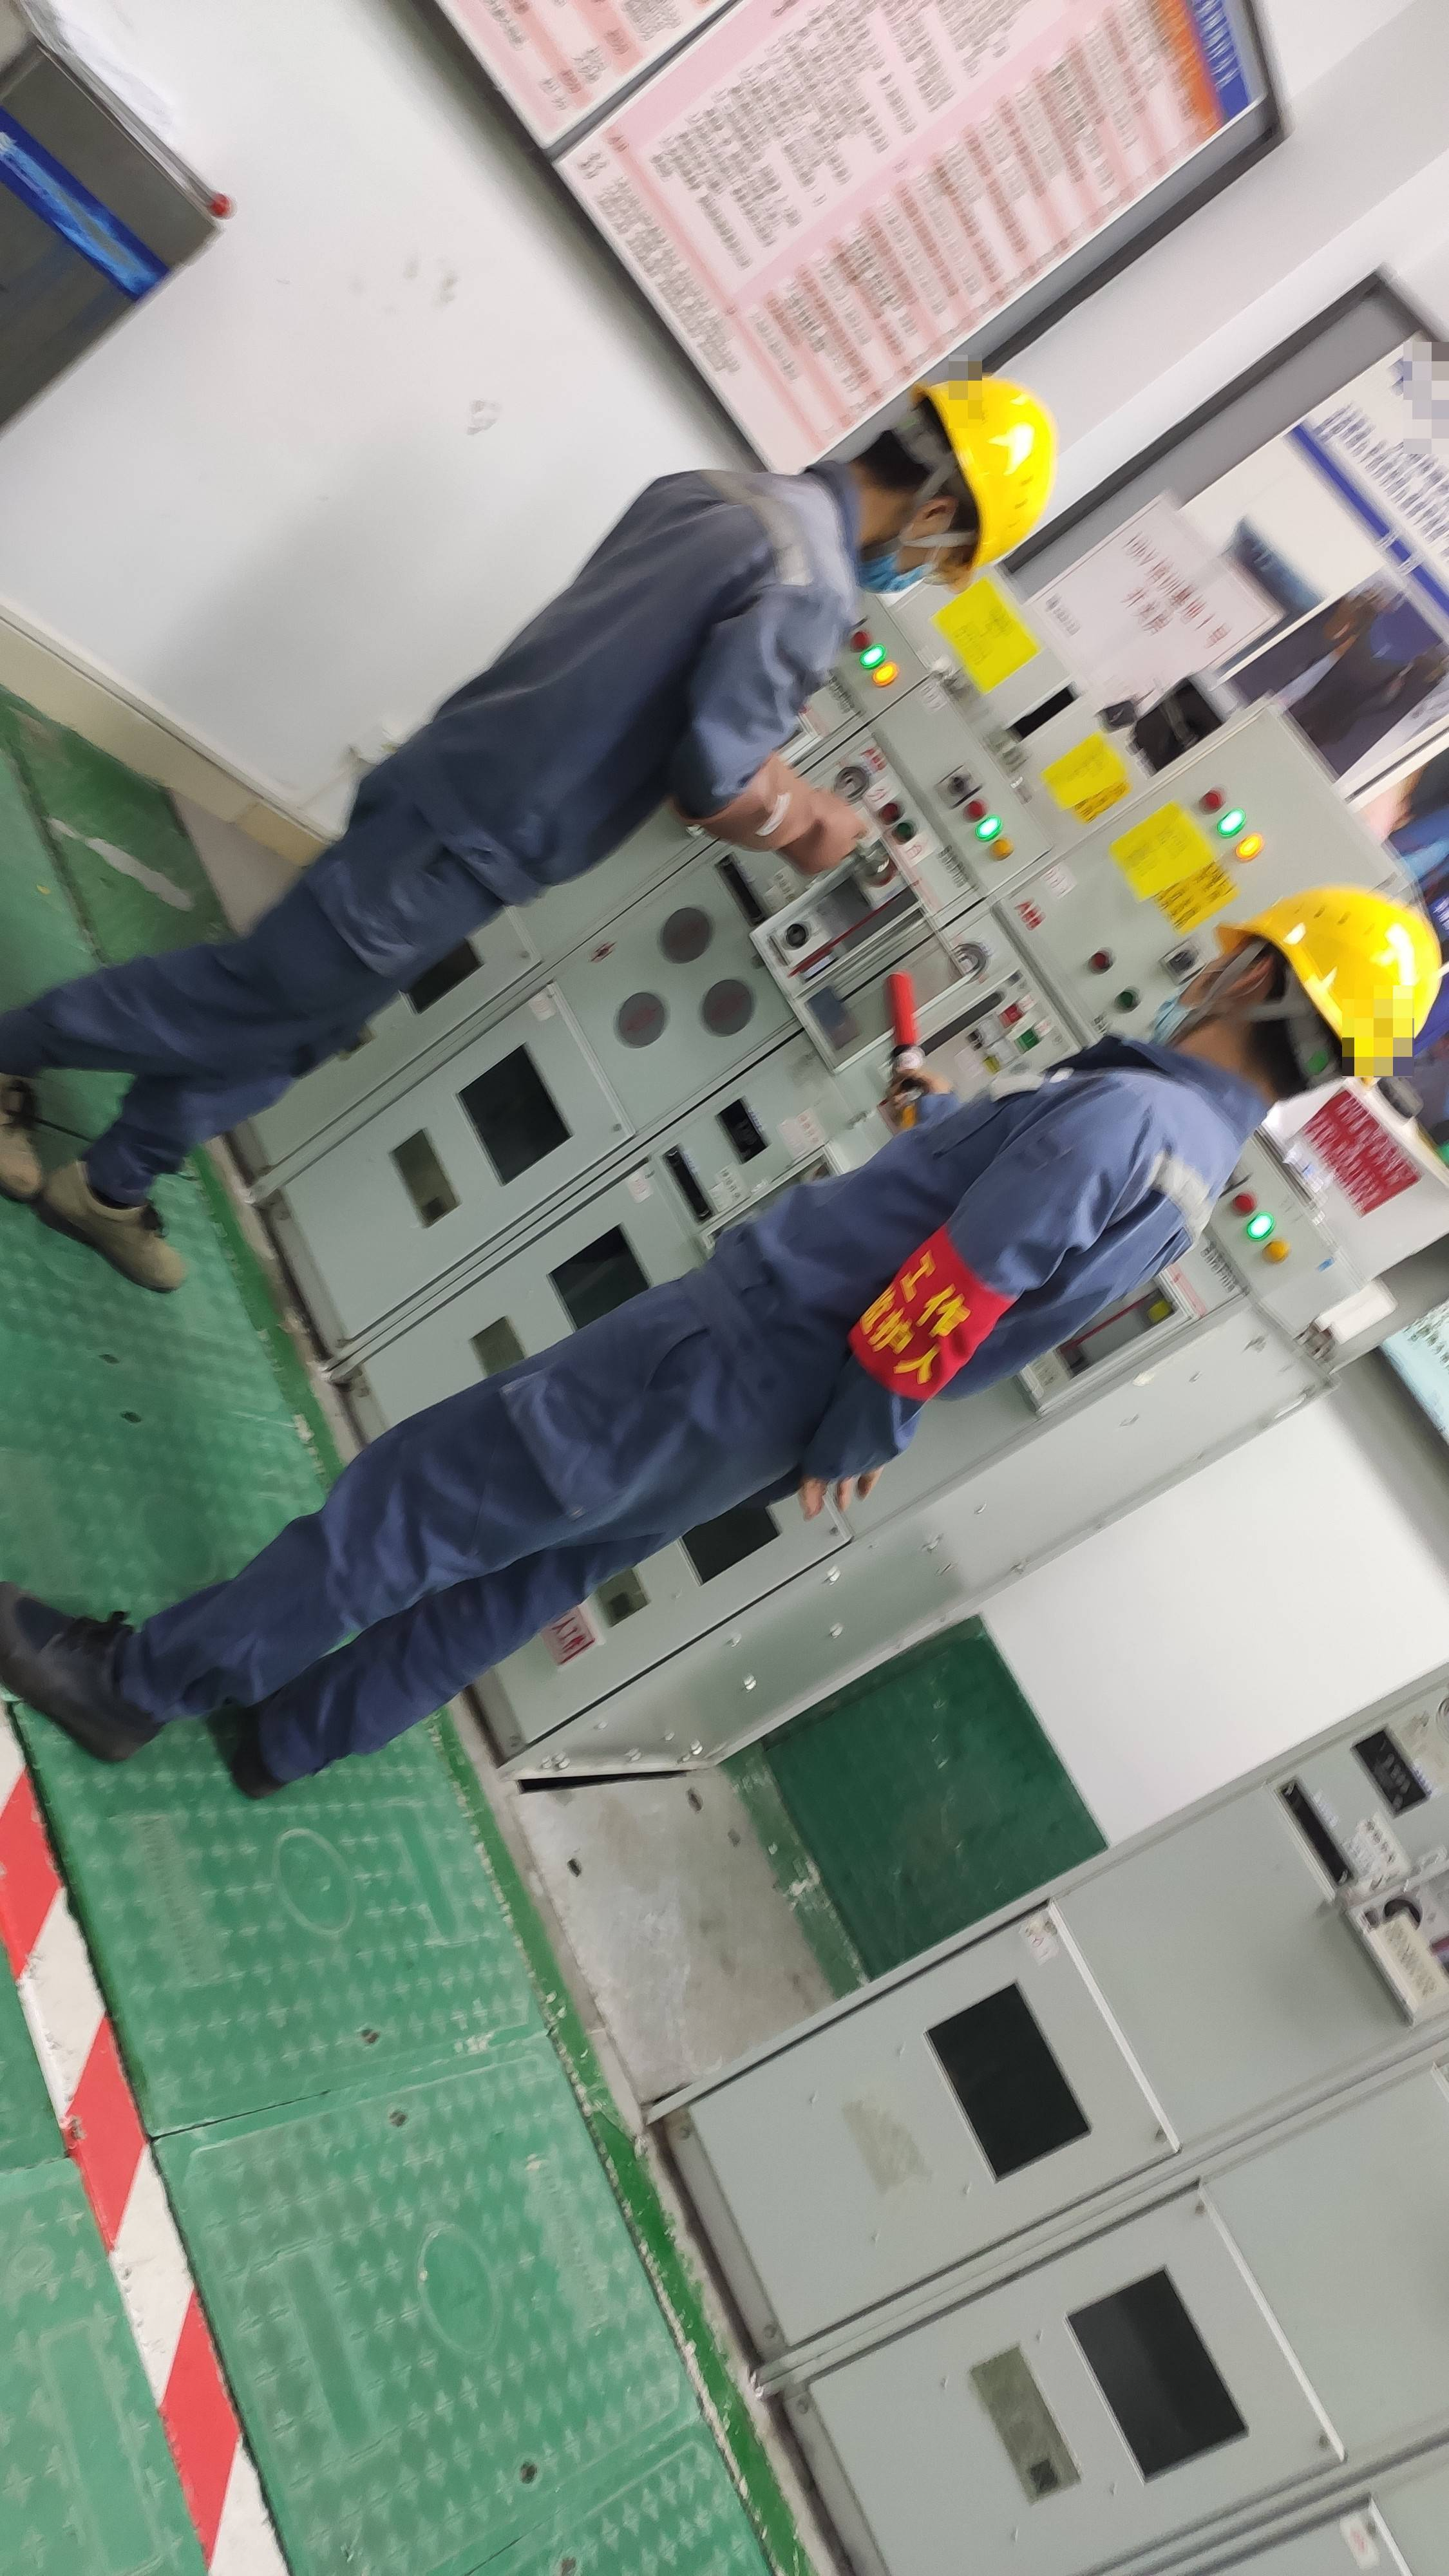downsuit: (96, 1293, 793, 1773), (48, 789, 469, 1139)
upsuit: (414, 462, 847, 870), (794, 1044, 1249, 1398)
